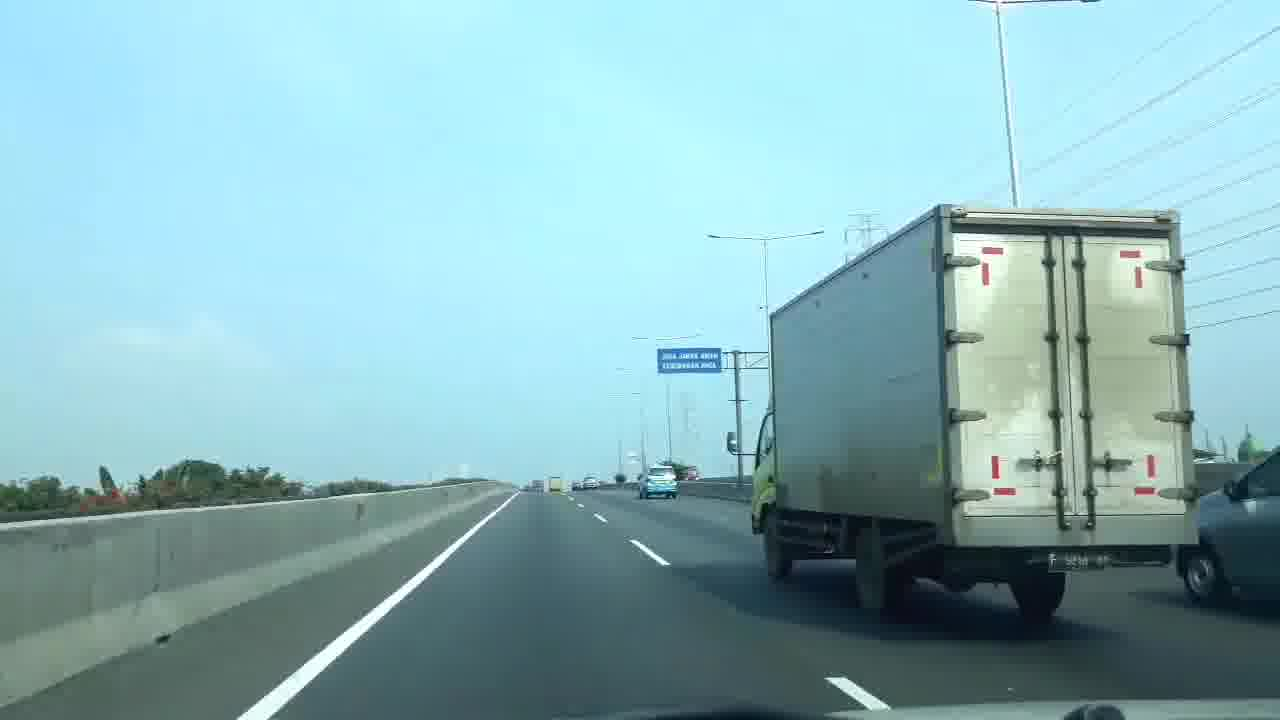plate_positive: (1047, 551, 1106, 572)
